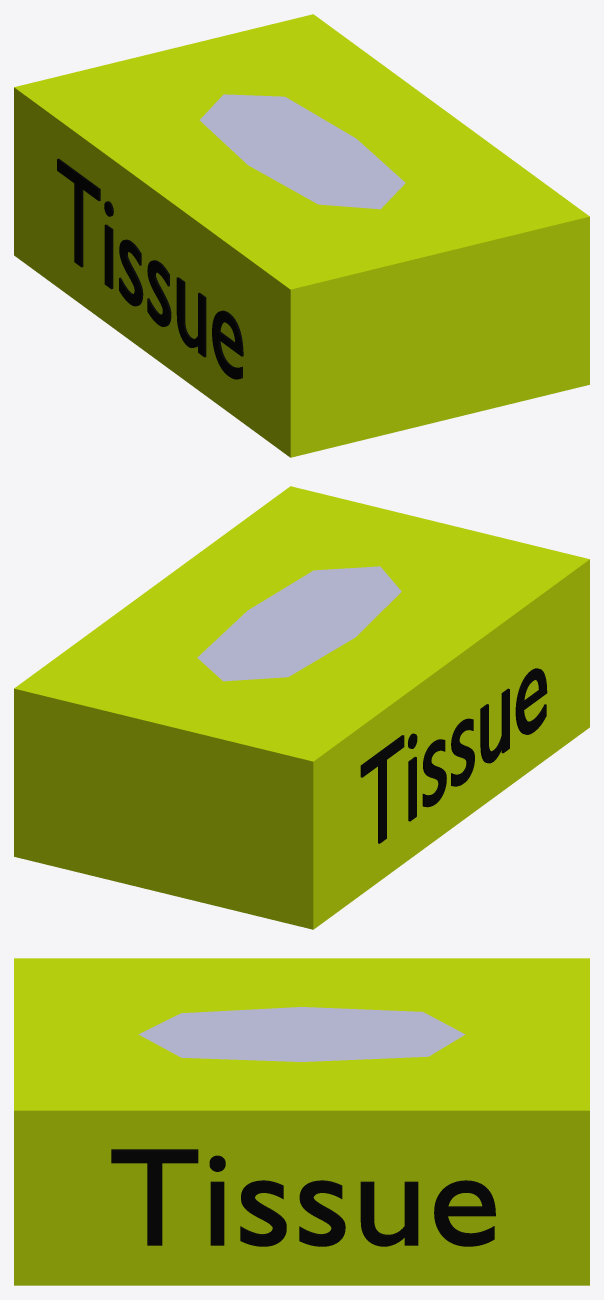
File: Tissue Box.fbx
3 renders of one model, top to bottom at view 1: azimuth 30°, elevation 25°; view 2: azimuth 150°, elevation 25°; view 3: azimuth 270°, elevation 25°, orthographic. The views are drawn at different scales.
Visible parts, largest first — view 1: tissue box; view 2: tissue box; view 3: tissue box.
Part boxes in pixels (bbox=[...]): tissue box: bbox=[14, 14, 589, 457]; tissue box: bbox=[14, 486, 589, 929]; tissue box: bbox=[14, 958, 589, 1285].
Size of the model in its own units: 10.04 by 5.27 by 15.71.
